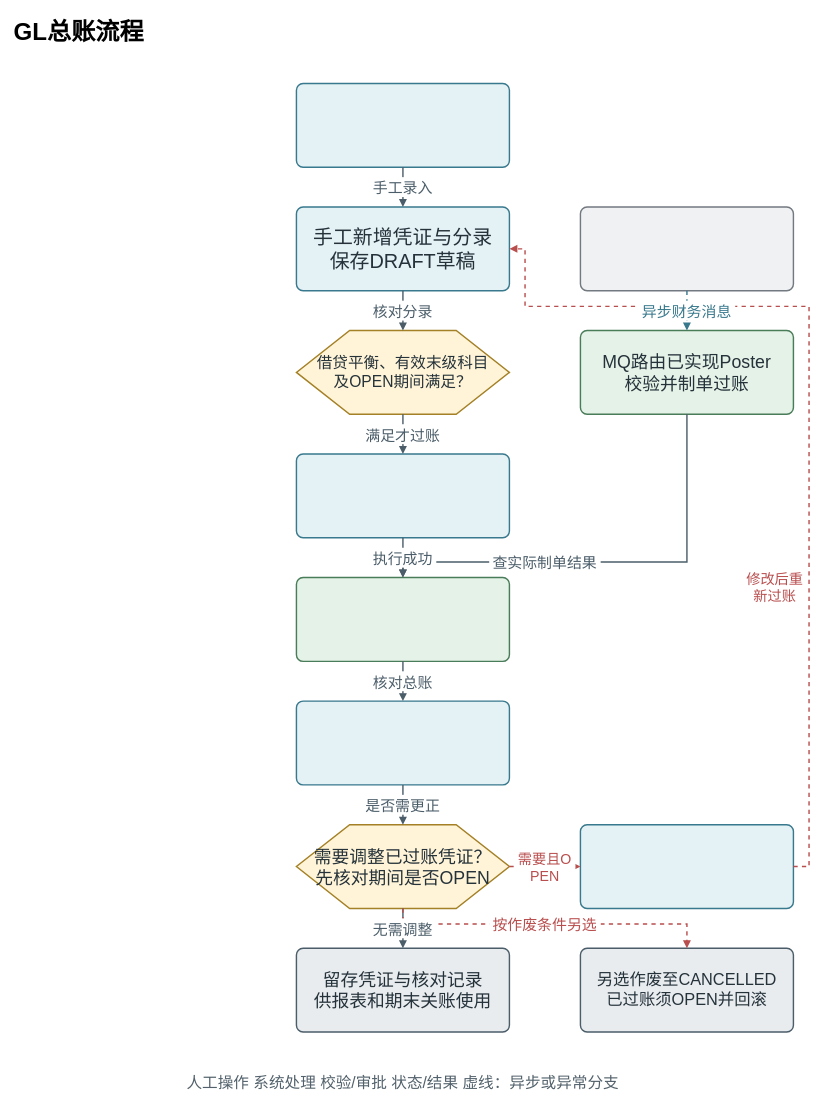
Image size: 827x1108. Some labels were removed from this diagram. Here are the shapes that lost their labels. From the top down, the centre of each, then its label:
At [402,125]: "配置科目、期间及汇率 凭证日期所在期间OPEN".
At [686,248]: "独立业务事件 发票开票或收付款确认".
At [402,495]: "点击过账 服务端重验后更新状态".
At [402,619]: "POSTED已过账 写分录与科目余额".
At [402,742]: "查询来源凭证与试算 核对余额及业务单据".
At [686,866]: "OPEN期间显式反过账 回滚余额并返回DRAFT".
